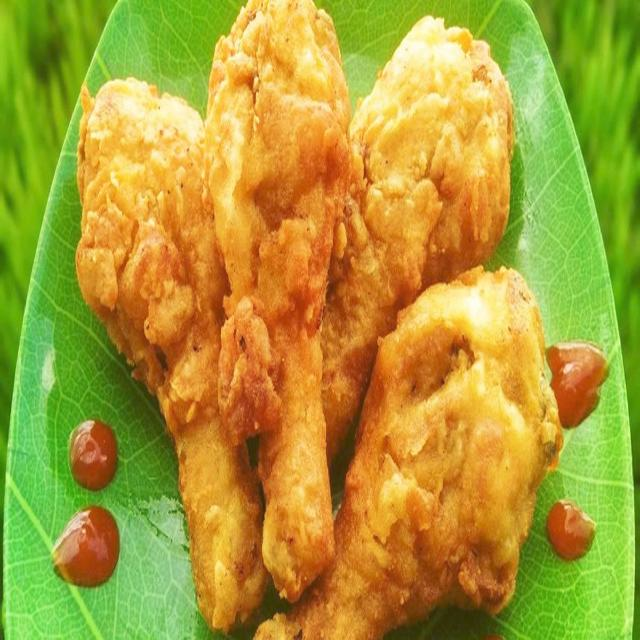fried_chicken: (270, 19, 510, 493), (78, 74, 276, 640), (246, 265, 544, 640), (200, 0, 349, 577)
